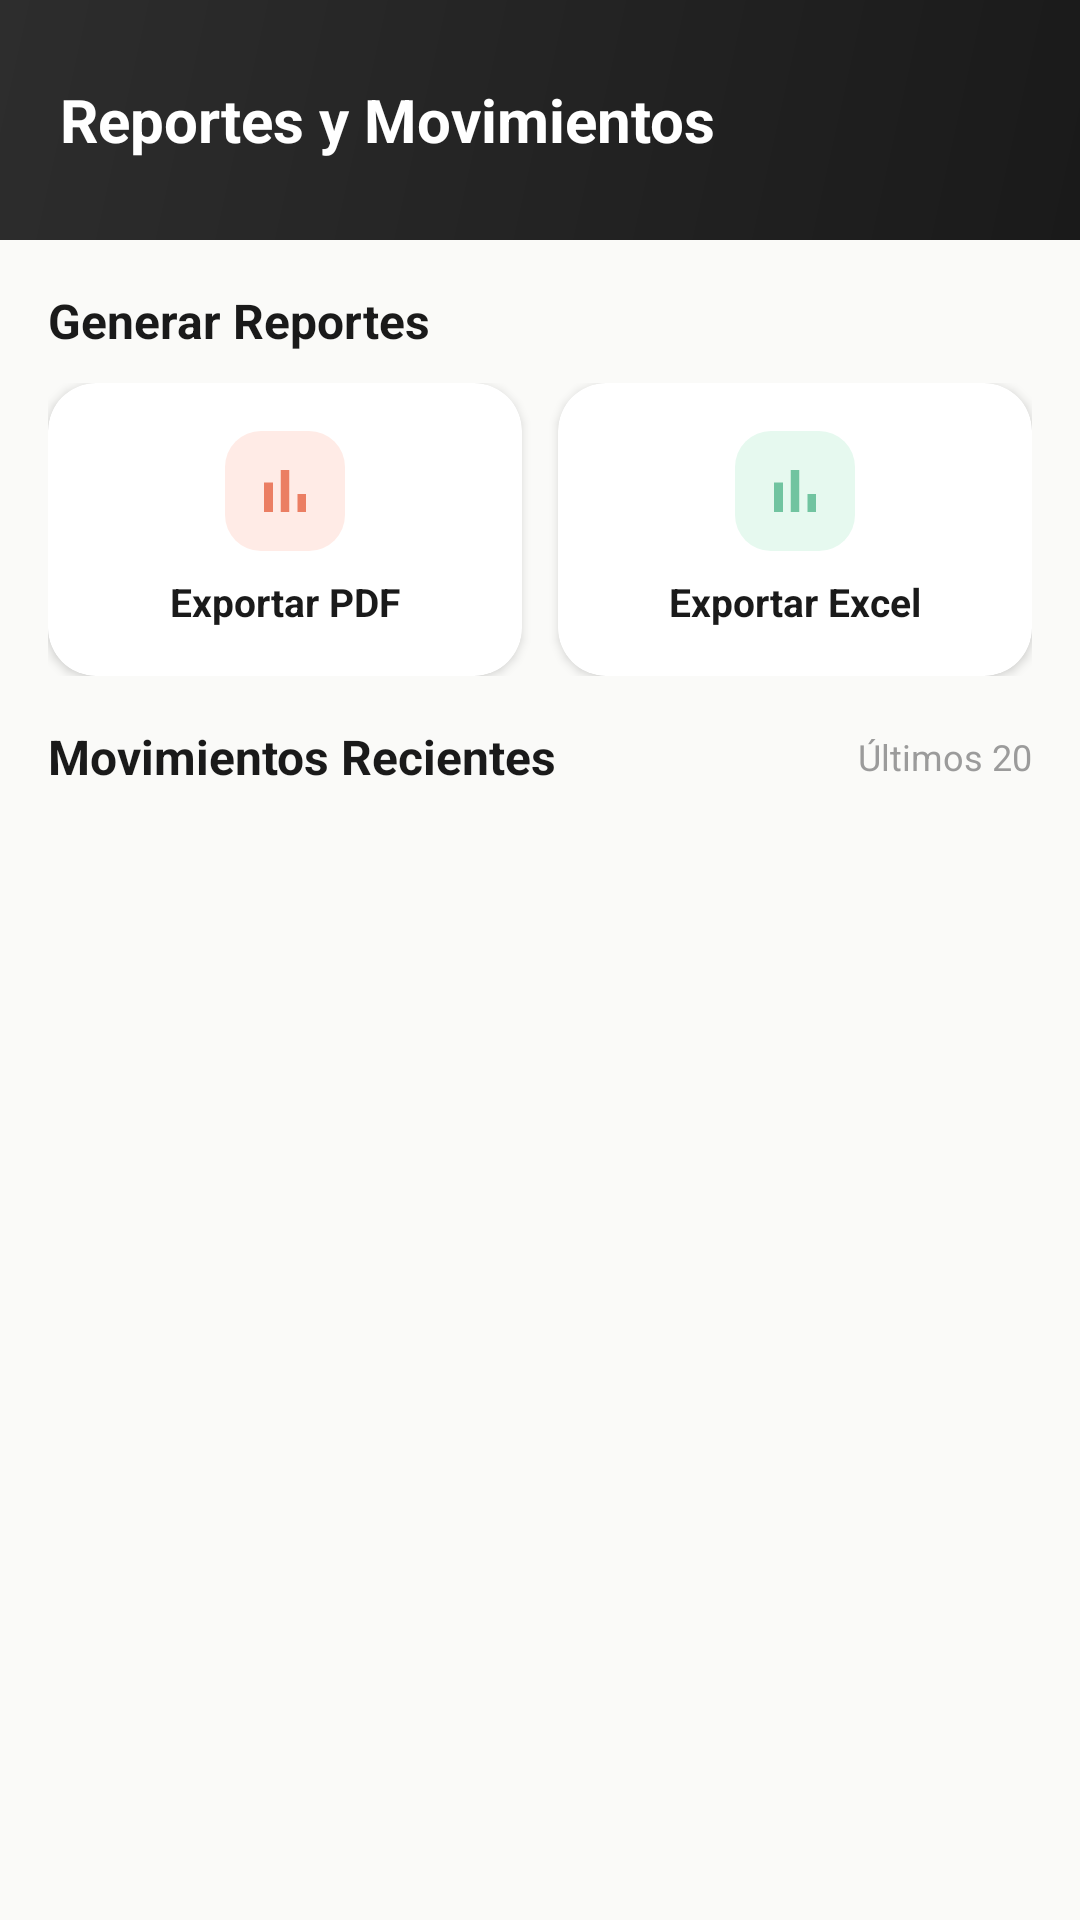

Named icons in this screenshot (1080x1920) and their centers, [x,y]:
reports: [285,491], [795,491]
